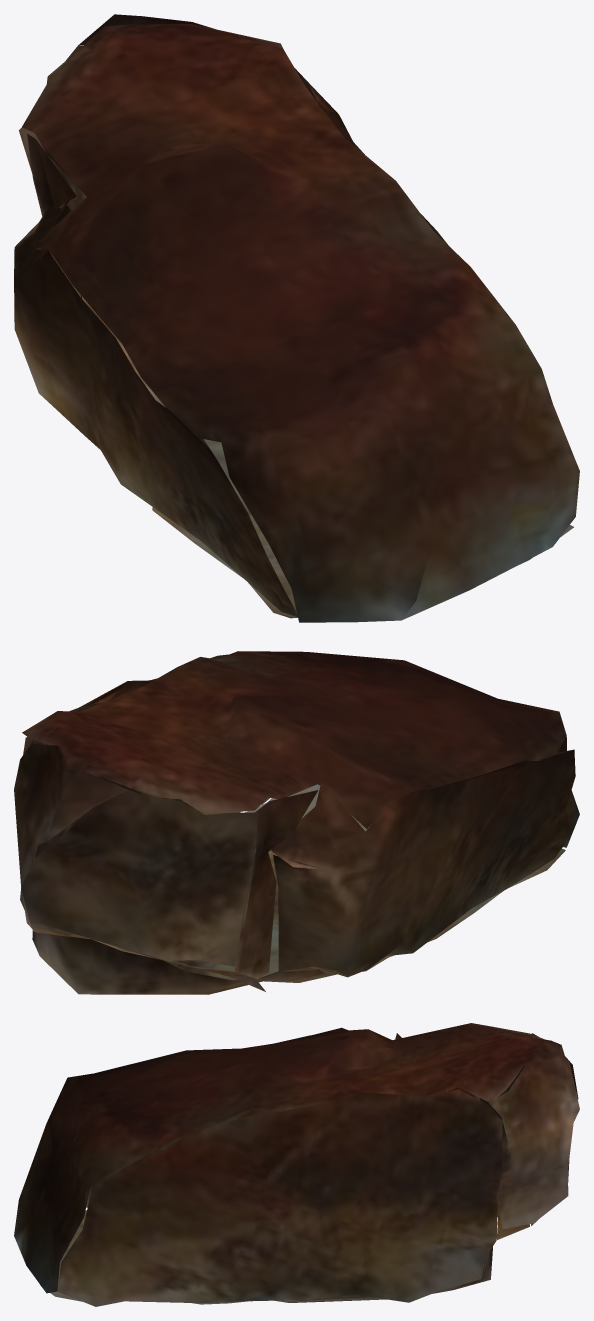
The model's file is ph_rock_07.glb.
The picture shows the model from 3 angles, top to bottom: view 1: azimuth 30°, elevation 25°; view 2: azimuth 150°, elevation 25°; view 3: azimuth 270°, elevation 25°; orthographic projection. The views are drawn at different scales.
Visible parts, largest first — view 1: rock_07; view 2: rock_07; view 3: rock_07.
Boxes of the visible parts, x1=… form: rock_07: x1=14, y1=14, x2=579, y2=622; rock_07: x1=14, y1=651, x2=579, y2=994; rock_07: x1=14, y1=1023, x2=579, y2=1306.
Size of the model in its own units: 0.1692 by 0.1439 by 0.3206.
1 material, 1 textured.
